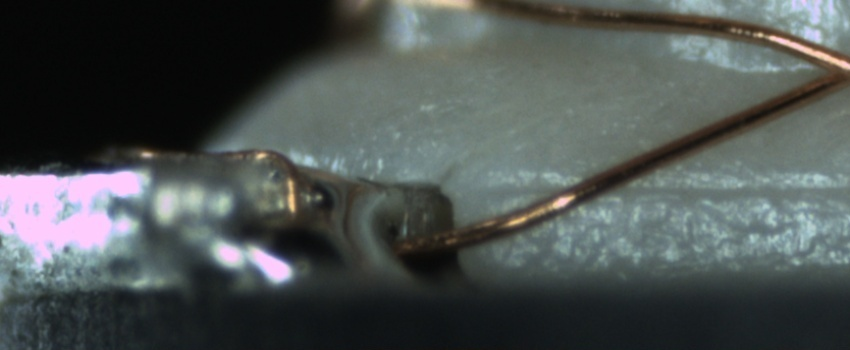CL: (797, 39, 849, 100)
DL: (482, 157, 849, 216)
TE: (126, 143, 304, 225)
